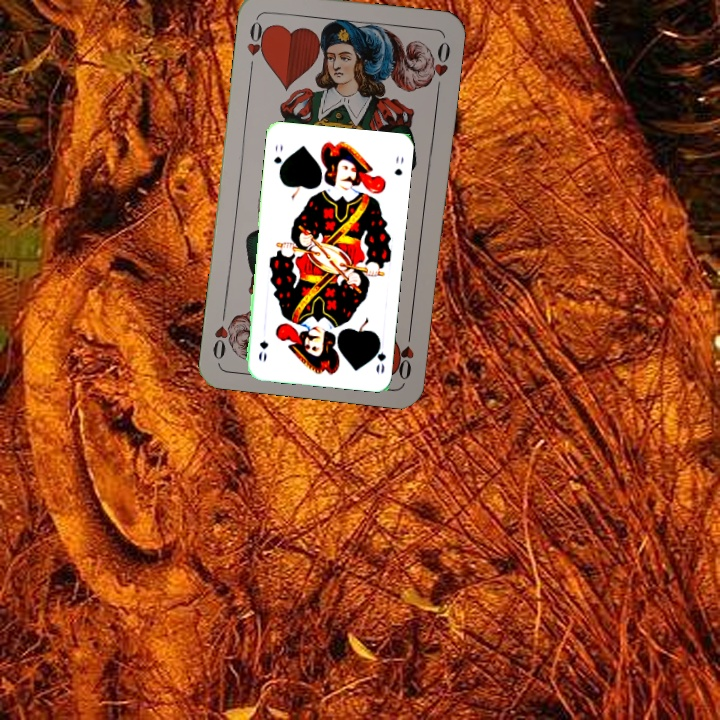GO: (369, 335, 388, 376), (270, 140, 286, 177)
HO: (243, 15, 271, 74), (391, 324, 417, 383)
